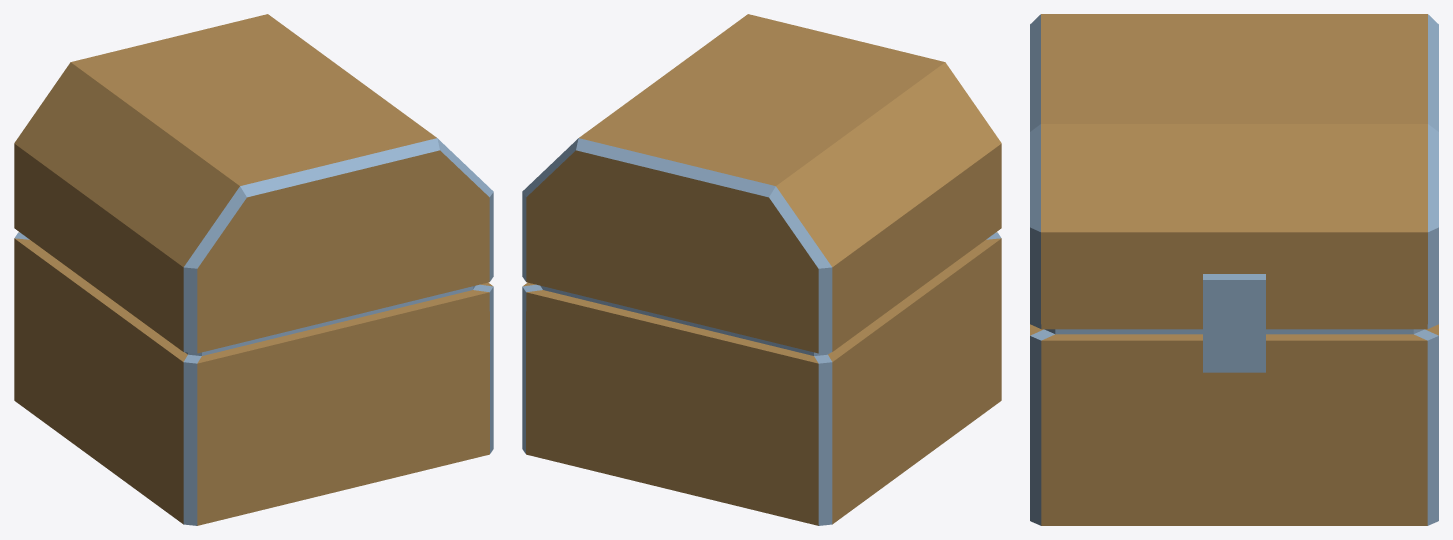
File: chest.glb
3 renders of one model, left to right at view 1: azimuth 30°, elevation 25°; view 2: azimuth 150°, elevation 25°; view 3: azimuth 270°, elevation 25°, orthographic. The views are drawn at different scales.
Parts seen in each view (by area): view 1: Cube.001, Cube; view 2: Cube.001, Cube; view 3: Cube.001, Cube.
Boxes of the visible parts, x1=… form: Cube.001: x1=14, y1=14, x2=493, y2=355; Cube: x1=14, y1=232, x2=493, y2=525; Cube.001: x1=522, y1=14, x2=1001, y2=355; Cube: x1=522, y1=232, x2=1001, y2=525; Cube.001: x1=1030, y1=14, x2=1438, y2=372; Cube: x1=1030, y1=324, x2=1438, y2=525.
Bounding box in the file's own units: 1.03 × 1 × 1.
